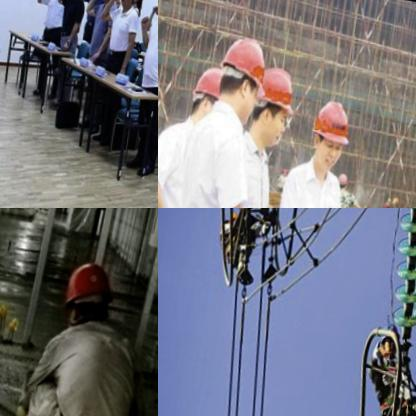head: (118, 0, 136, 5), (130, 0, 144, 5)
helmet: (204, 26, 281, 130), (242, 48, 308, 159), (55, 248, 120, 337), (303, 91, 362, 178), (183, 59, 228, 121), (376, 315, 406, 357)
